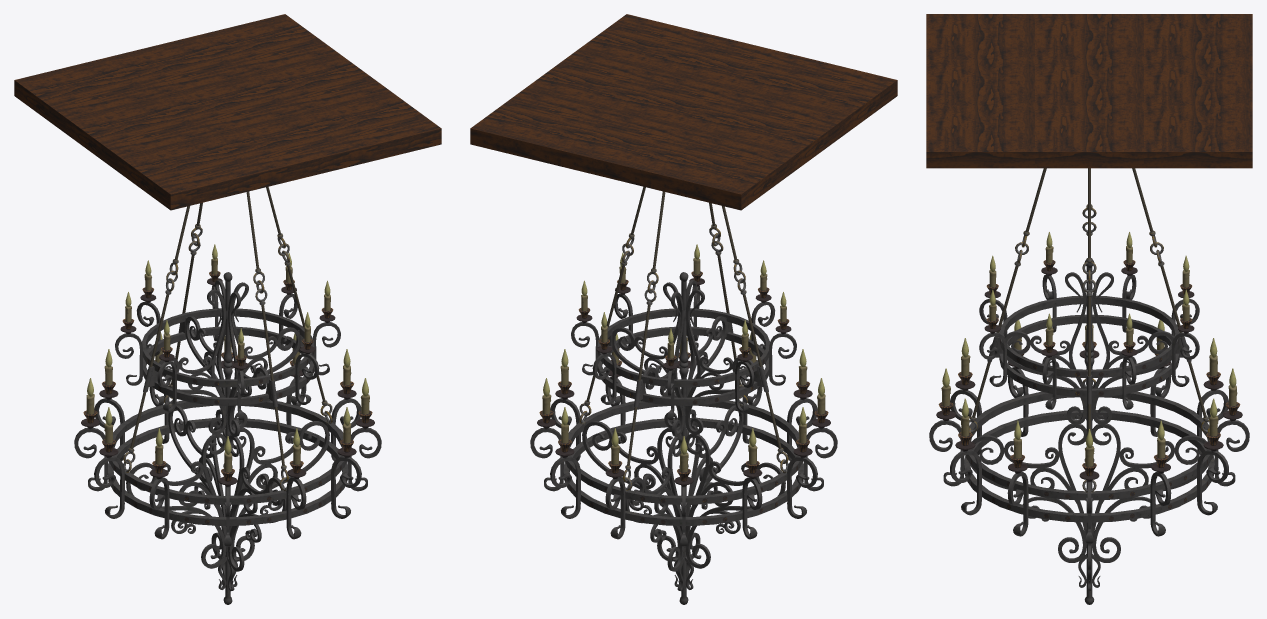
File: chandelier.glb
The picture shows the model from 3 angles, left to right: view 1: azimuth 30°, elevation 25°; view 2: azimuth 150°, elevation 25°; view 3: azimuth 270°, elevation 25°; orthographic projection. The views are drawn at different scales.
Visible parts, largest first — view 1: Ceil_with_UV2, Ceil_with_UV7, Ceil_with_UV3, Ceil_with_UV1, Ceil_with_UV4, LP_Chandelier19, Ceil_with_UV, Ceil_with_UV5, Ceil_with_UV8, Ceil_with_UV6, LP_Chandelier34, Candle_holder (×6) (+7 smaller); view 2: Ceil_with_UV4, Ceil_with_UV8, Ceil_with_UV5, Ceil_with_UV1, Ceil_with_UV2, LP_Chandelier19, Ceil_with_UV, Ceil_with_UV3, Ceil_with_UV7, Ceil_with_UV6, LP_Chandelier34, Candle_holder (×6) (+7 smaller); view 3: Ceil_with_UV6, Ceil_with_UV7, Ceil_with_UV8, Candle_holder (×10), LP_Chandelier19, Ceil_with_UV, Ceil_with_UV1, Ceil_with_UV2, Ceil_with_UV3, Ceil_with_UV4, Ceil_with_UV5, LP_Chandelier35 (+5 smaller).
Boxes of the visible parts, left/top/right/bottom form: Ceil_with_UV2: left=118, top=134, right=260, bottom=210; Ceil_with_UV7: left=299, top=90, right=441, bottom=166; Ceil_with_UV3: left=209, top=112, right=351, bottom=188; Ceil_with_UV1: left=66, top=96, right=208, bottom=171; Ceil_with_UV4: left=14, top=58, right=156, bottom=133; LP_Chandelier19: left=142, top=308, right=314, bottom=405; Ceil_with_UV: left=157, top=74, right=298, bottom=134; Ceil_with_UV5: left=105, top=36, right=246, bottom=95; Ceil_with_UV8: left=195, top=14, right=336, bottom=73; Ceil_with_UV6: left=247, top=52, right=388, bottom=112; LP_Chandelier34: left=126, top=289, right=226, bottom=589; Candle_holder (×6): left=74, top=427, right=381, bottom=539; Ceil_with_UV4: left=651, top=134, right=793, bottom=210; Ceil_with_UV8: left=470, top=90, right=612, bottom=166; Ceil_with_UV5: left=560, top=112, right=702, bottom=188; Ceil_with_UV1: left=703, top=96, right=845, bottom=171; Ceil_with_UV2: left=755, top=58, right=897, bottom=133; LP_Chandelier19: left=597, top=308, right=769, bottom=405; Ceil_with_UV: left=613, top=74, right=754, bottom=134; Ceil_with_UV3: left=665, top=36, right=806, bottom=95; Ceil_with_UV7: left=575, top=14, right=716, bottom=73; Ceil_with_UV6: left=523, top=52, right=664, bottom=112; LP_Chandelier34: left=685, top=289, right=785, bottom=589; Candle_holder (×6): left=530, top=427, right=837, bottom=539; Ceil_with_UV6: left=1035, top=106, right=1143, bottom=168; Ceil_with_UV7: left=926, top=106, right=1034, bottom=168; Ceil_with_UV8: left=1144, top=106, right=1252, bottom=168; Candle_holder (×10): left=929, top=332, right=1249, bottom=536; LP_Chandelier19: left=999, top=295, right=1179, bottom=397; Ceil_with_UV: left=1035, top=60, right=1143, bottom=105; Ceil_with_UV1: left=1035, top=14, right=1143, bottom=59; Ceil_with_UV2: left=926, top=14, right=1034, bottom=59; Ceil_with_UV3: left=926, top=60, right=1034, bottom=105; Ceil_with_UV4: left=1144, top=14, right=1252, bottom=59; Ceil_with_UV5: left=1144, top=60, right=1252, bottom=105; LP_Chandelier35: left=969, top=272, right=1087, bottom=587.
Bounding box in the file's own units: 3.53 × 6.23 × 3.53.
Materials: 2 (2 with a texture image).
